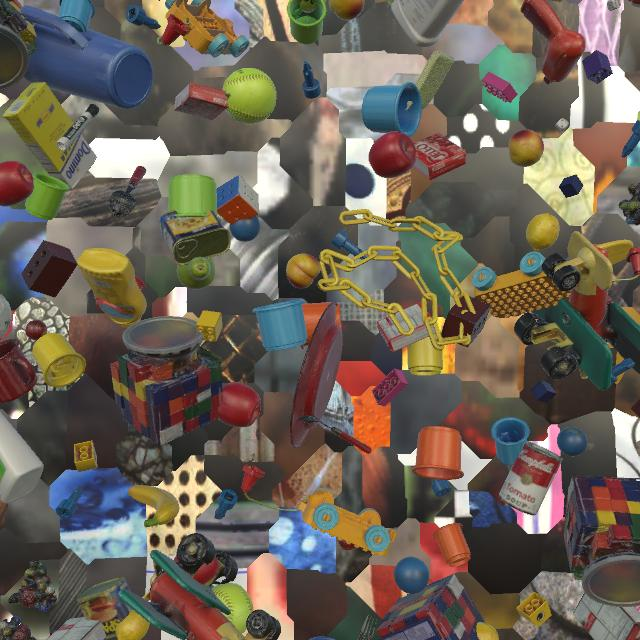ycb_004_sugar_box: (3, 82, 97, 189), (550, 0, 562, 2)
ycb_005_tomato_soup_can: (499, 441, 563, 516)
ycb_006_mustard_bottle: (76, 248, 147, 328)
ycb_008_pudding_box: (573, 592, 640, 640), (46, 617, 106, 640)
ycb_009_gelatin_box: (377, 302, 436, 352), (413, 133, 466, 180), (174, 82, 229, 120)
ycb_010_potted_meat_can: (158, 210, 231, 265), (77, 577, 133, 640)
ycb_011_banana: (128, 485, 179, 528)
ycb_013_apple: (368, 131, 416, 178), (218, 382, 261, 427), (0, 161, 34, 207), (174, 555, 220, 585)
ycb_014_lemon: (526, 213, 559, 251), (115, 610, 150, 640), (476, 622, 499, 640)
ycb_015_peach: (508, 129, 544, 167), (286, 254, 321, 289), (328, 0, 365, 20)
ycb_016_pear: (177, 257, 215, 289)
